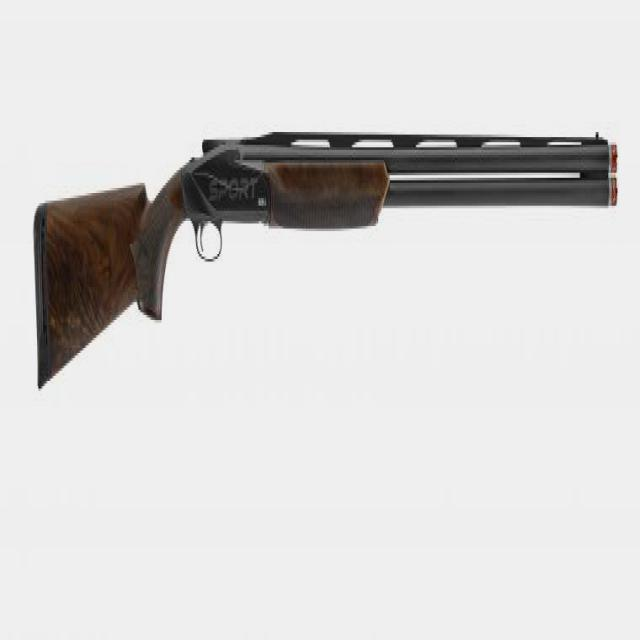long weapon: (31, 51, 628, 447)
